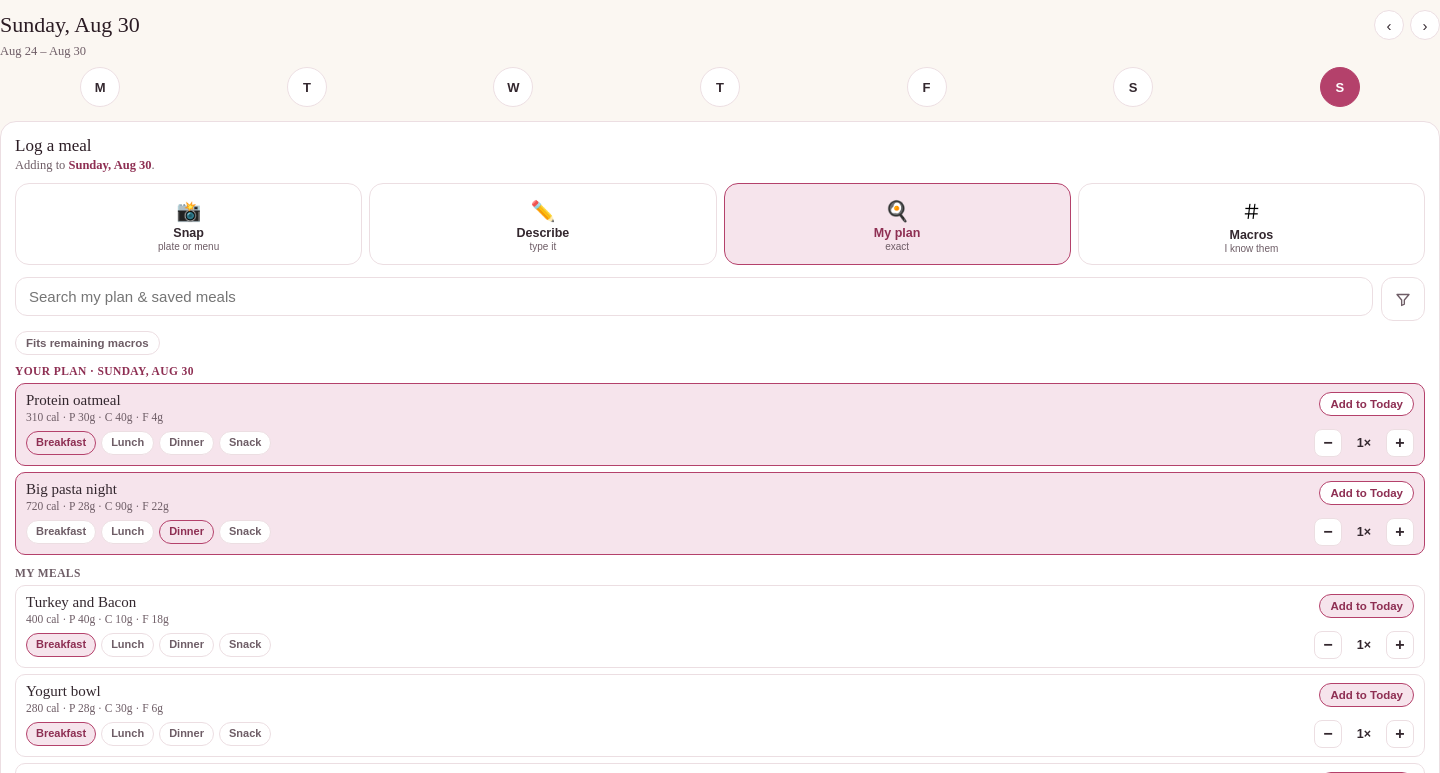
Test case: MealLogCard My plan list › filters My plan to meals that fit remaining macros
Expected: the text "Big pasta night" is shown, x1=26 y1=481 x2=117 y2=497
Click the button "Fits remaining macros" at (87, 343), box x1=15 y1=331 x2=160 y2=355
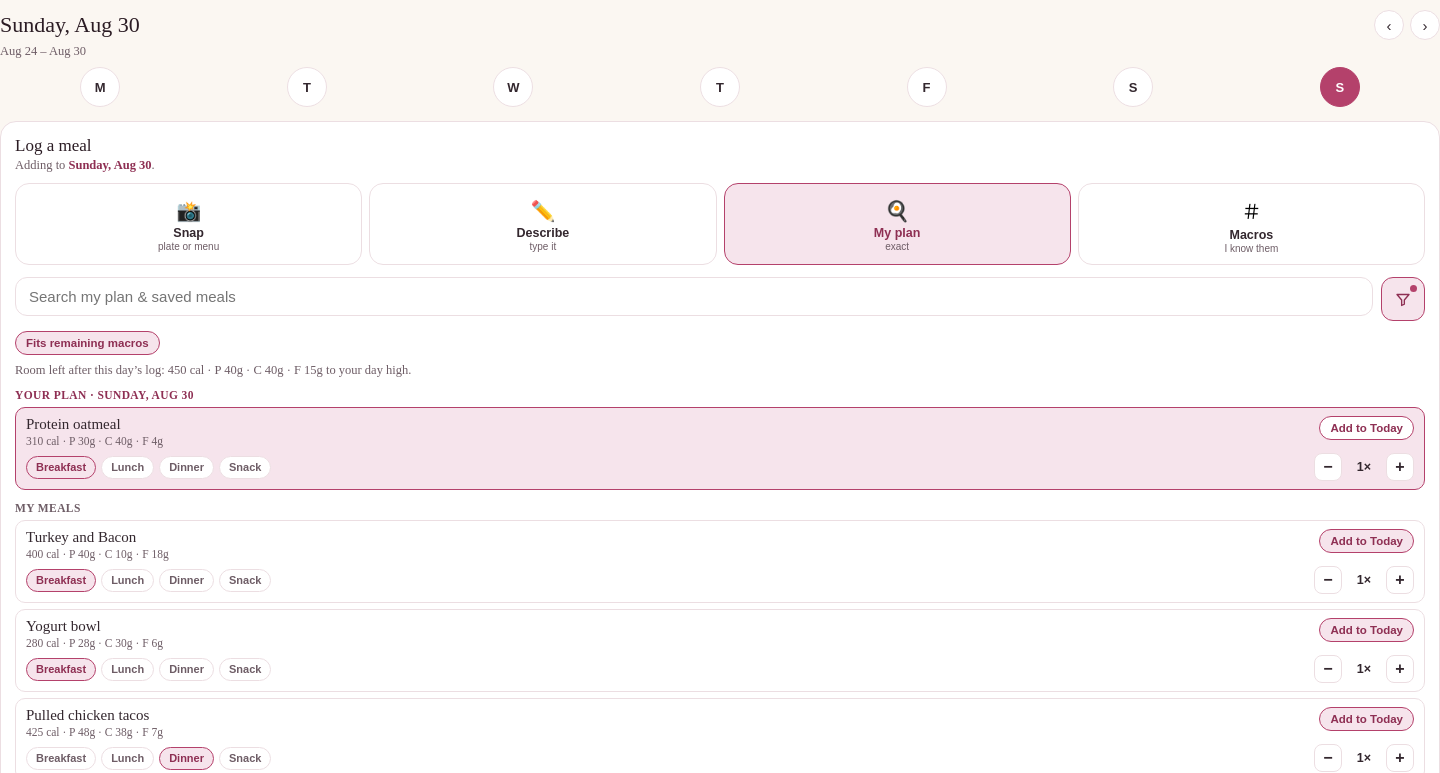
Expected: the text "Protein oatmeal" is shown, x1=26 y1=416 x2=121 y2=432
Expected: the text "Room left after this day’s log" is shown, x1=15 y1=363 x2=168 y2=377
Expected: the text "Big pasta night" is gone
